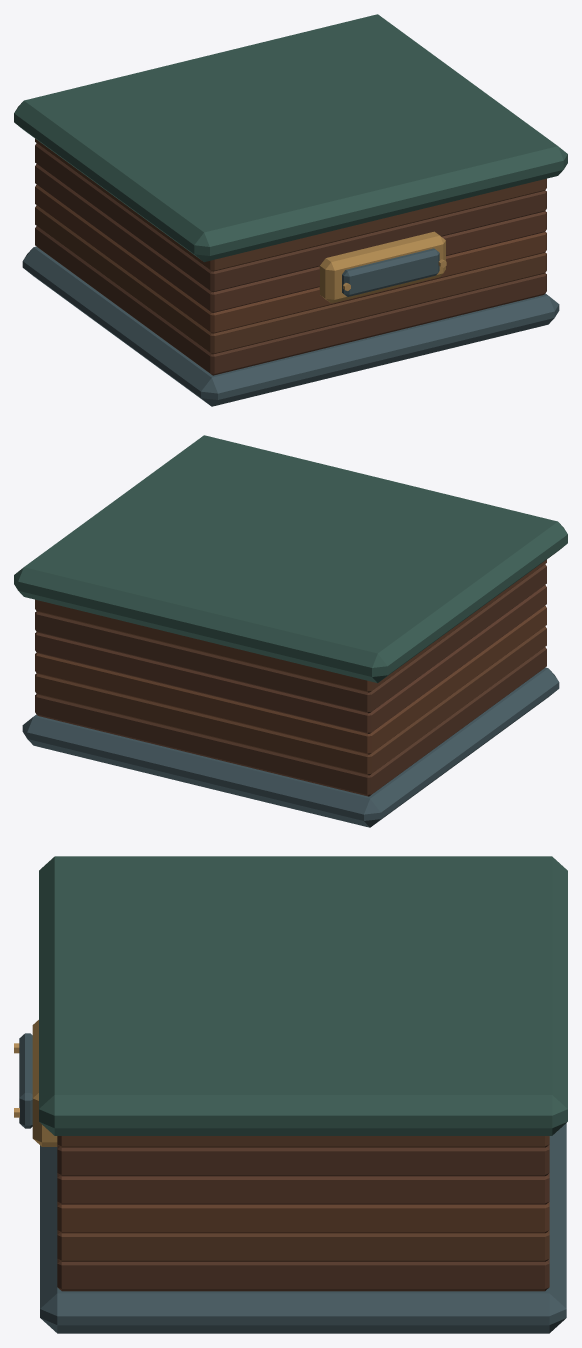
File: w2b-counter-riser.glb
3 views of the same model, one above another, from view 1: azimuth 30°, elevation 25°; view 2: azimuth 150°, elevation 25°; view 3: azimuth 270°, elevation 25° (orthographic). The views are drawn at different scales.
Visible parts, largest first — view 1: w2b-counter-riser; view 2: w2b-counter-riser; view 3: w2b-counter-riser.
Part boxes in pixels (left/top/right/bottom): w2b-counter-riser: left=14, top=14, right=567, bottom=406; w2b-counter-riser: left=14, top=435, right=567, bottom=827; w2b-counter-riser: left=14, top=856, right=567, bottom=1333.
Size of the model in its own units: 1.21 by 0.548 by 1.13.
